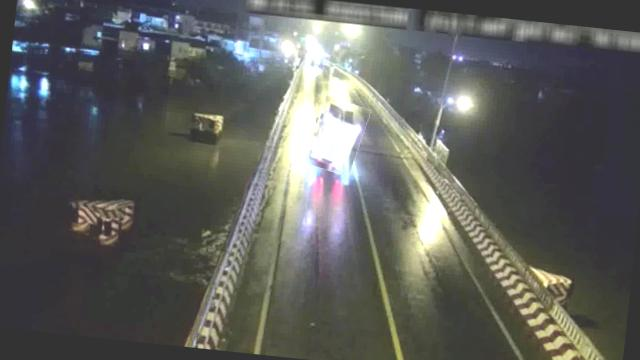Truck: (306, 97, 367, 176)
